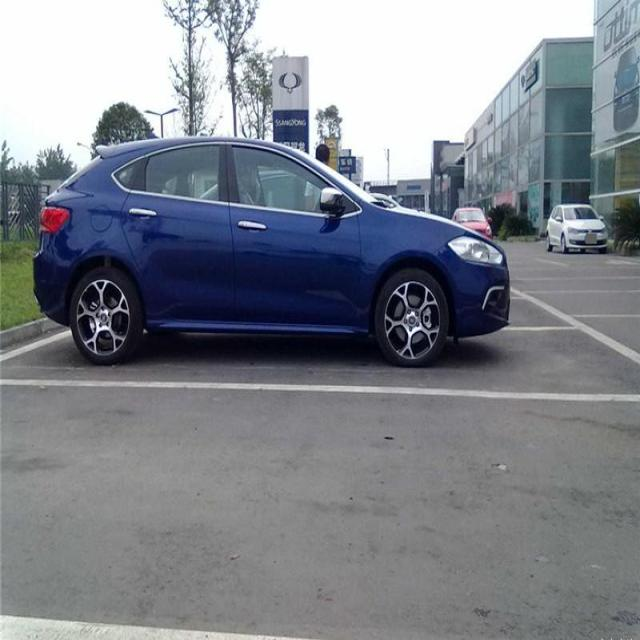back_right_side_light: (39, 201, 70, 237)
door: (120, 146, 234, 334)
front_bumper: (434, 244, 512, 336)
front_right_side_door: (223, 139, 363, 328)
front_right_side_light: (445, 232, 504, 268)
front_right_side_mirror: (319, 185, 343, 216)
rear_bumper: (31, 229, 82, 326)
wheel: (376, 268, 448, 366), (69, 266, 140, 364)
